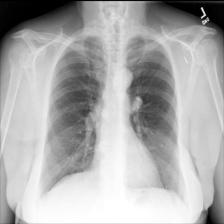normal: (34, 26, 192, 209)
